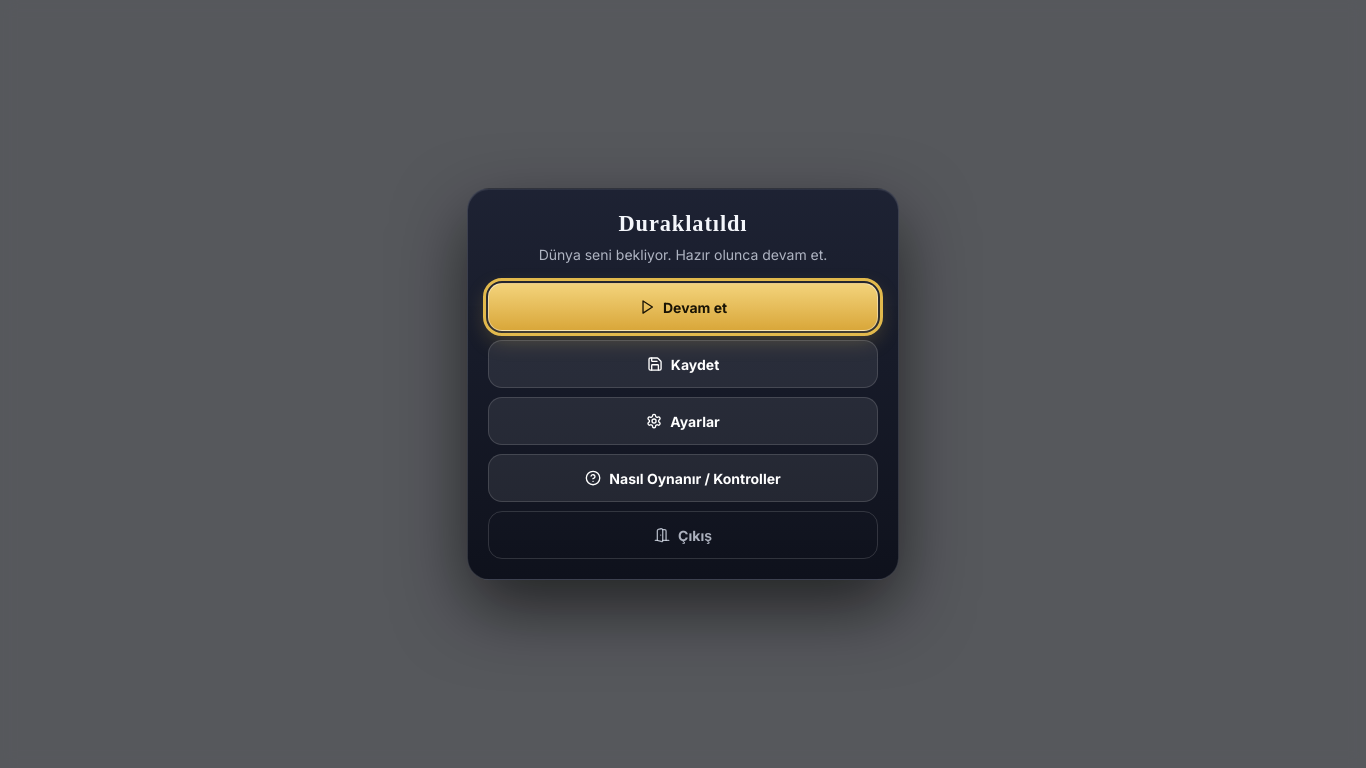
Test case: Nasıl Oynanır paneli (duraklatma menüsü) › ana menüde Ayarlar altında bir giriş var; açılınca başlık, klavye listesi ve ipuçları görünür; Geri ana menüye döner
The width and height of the screenshot is (1366, 768).
Click the button "Nasıl Oynanır / Kontroller": (683, 478) x1=488 y1=454 x2=878 y2=502
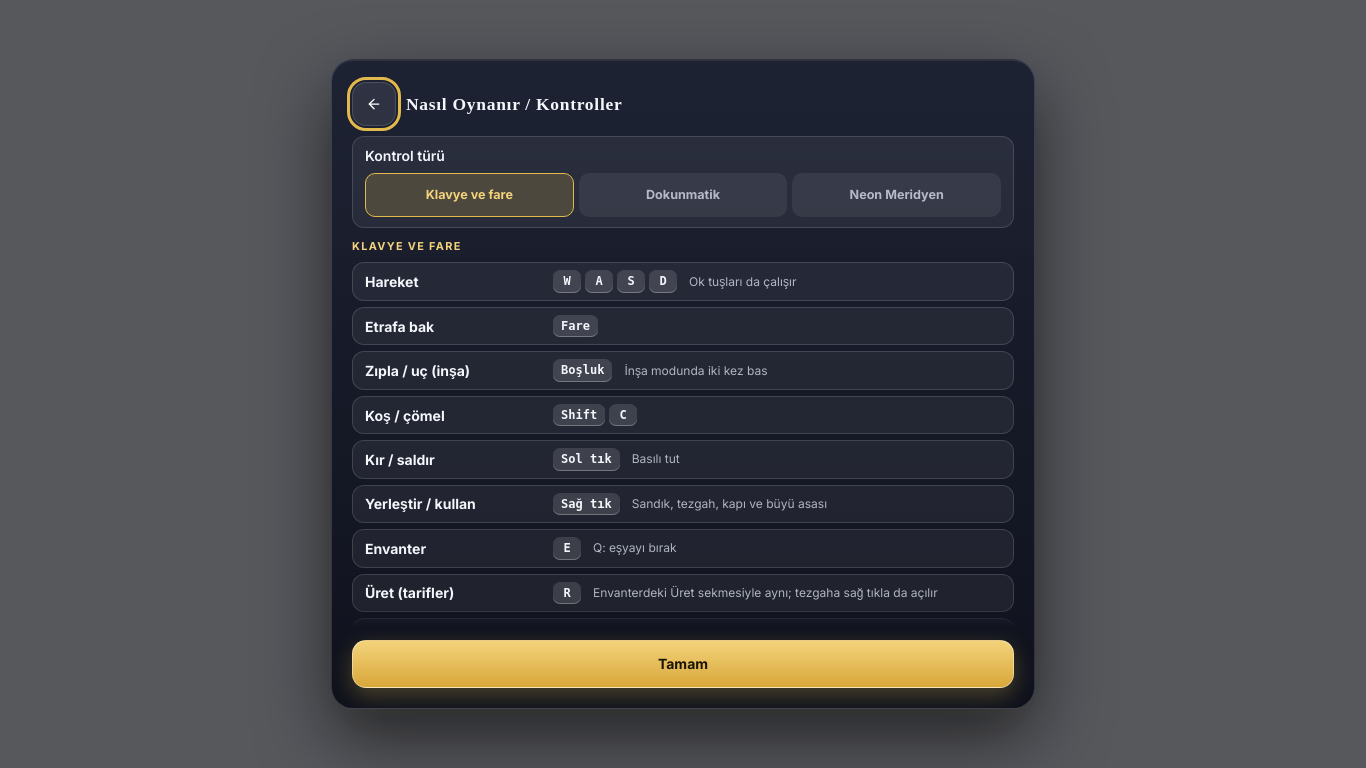
Result: the text "Üret (tarifler)" is shown at x1=365 y1=585 x2=454 y2=602
Result: the text "R" is shown at x1=553 y1=582 x2=581 y2=604
Click the button named "Geri": (374, 104) x1=352 y1=82 x2=396 y2=126
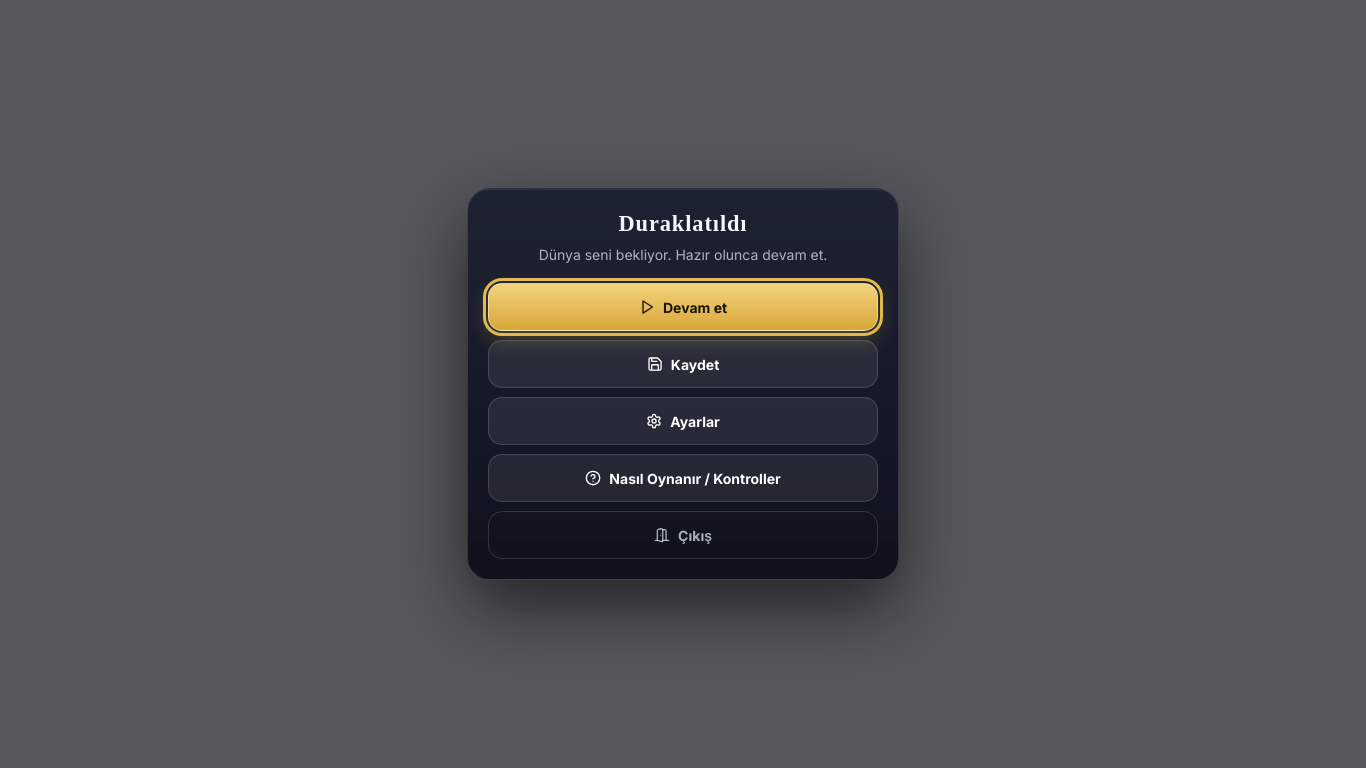
Result: the dialog "Duraklatıldı" is shown at x1=467 y1=188 x2=899 y2=580
